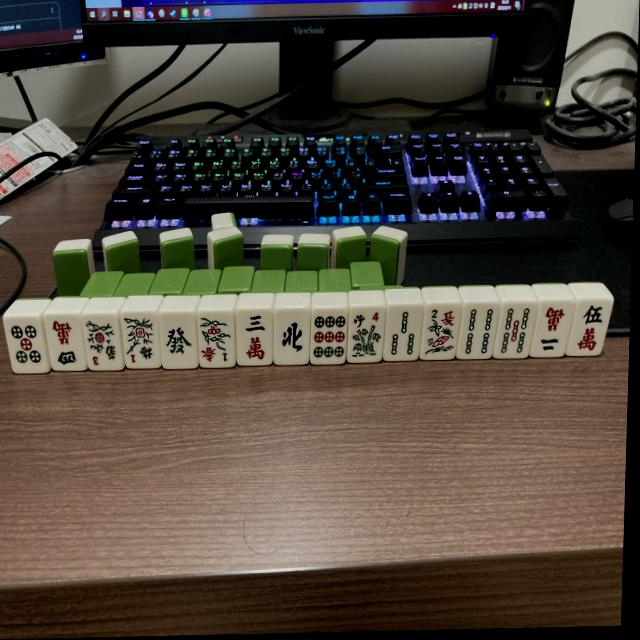f1: (119, 314, 162, 370)
f3: (83, 317, 126, 372)
f4: (347, 310, 384, 364)
fa: (157, 314, 199, 372)
ff1: (196, 314, 236, 369)
ff2: (422, 307, 462, 361)
m2: (531, 303, 575, 359)
m3: (236, 311, 276, 368)
m4: (43, 317, 88, 373)
m5: (566, 301, 613, 357)
north: (274, 311, 312, 366)
s3: (386, 307, 425, 361)
s4: (458, 306, 500, 361)
s5: (494, 306, 537, 360)
t5: (3, 318, 52, 375)
t9: (312, 311, 349, 365)
